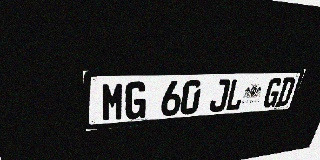0: (179, 80, 202, 115)
6: (160, 80, 184, 117)
D: (275, 77, 297, 107)
G: (124, 81, 148, 120), (261, 78, 284, 108)
J: (208, 79, 231, 113)
L: (224, 79, 247, 111)
M: (101, 82, 125, 122)
